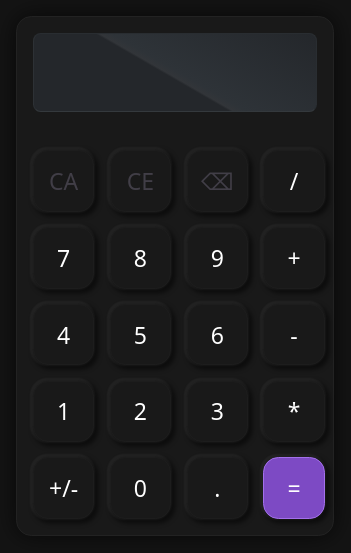
Scenario: Calculator component tests › Operaciones funcionan con click
Click the button "5" at {"x": 140, "y": 335}, box [110,304,171,365]
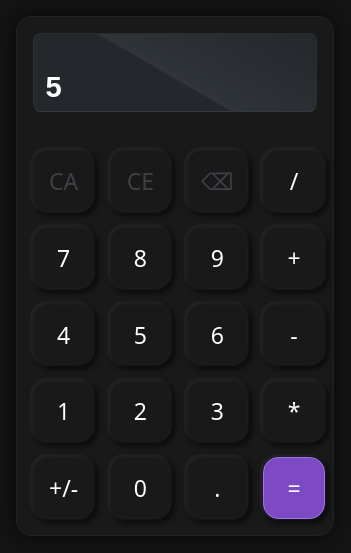
Now the heading "5" is shown, box [45,71,62,103]
Click the button "-" at {"x": 294, "y": 335}, box [263,304,325,365]
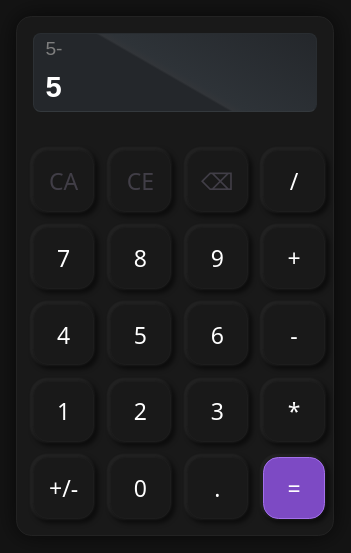
Now the heading "5" is shown, box [45,71,62,103]
Now the text "5-" is shown, box [45,38,62,59]
Click the button "3" at {"x": 217, "y": 411}, box [186,381,248,442]
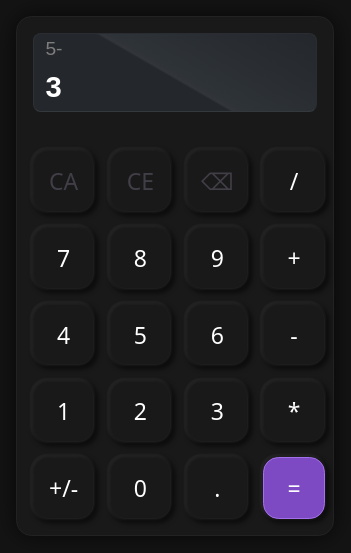
Now the text "5-" is shown, box [45,38,62,59]
Now the heading "3" is shown, box [45,71,62,103]
Click the button "=" at {"x": 294, "y": 488}, box [263,458,325,519]
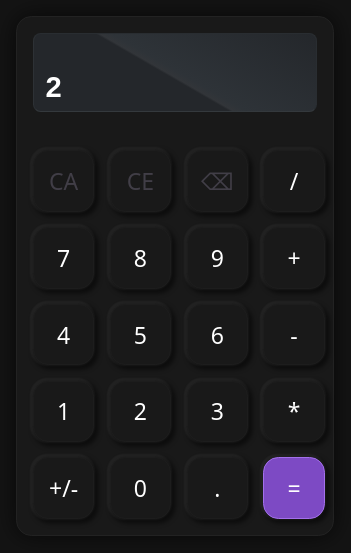
Now the heading "2" is shown, box [45,71,62,103]
